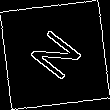N_SE: (23, 24, 87, 86)
